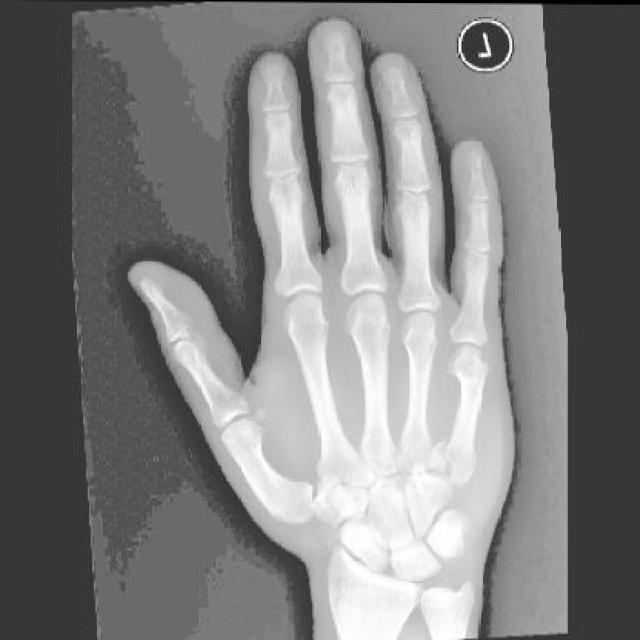Fracture: (436, 439, 465, 479)
